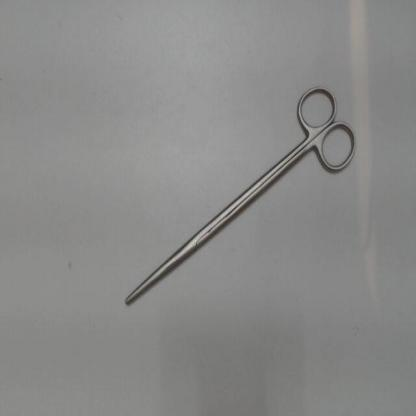9 Metzenbaum Scissors: (119, 78, 365, 314)
